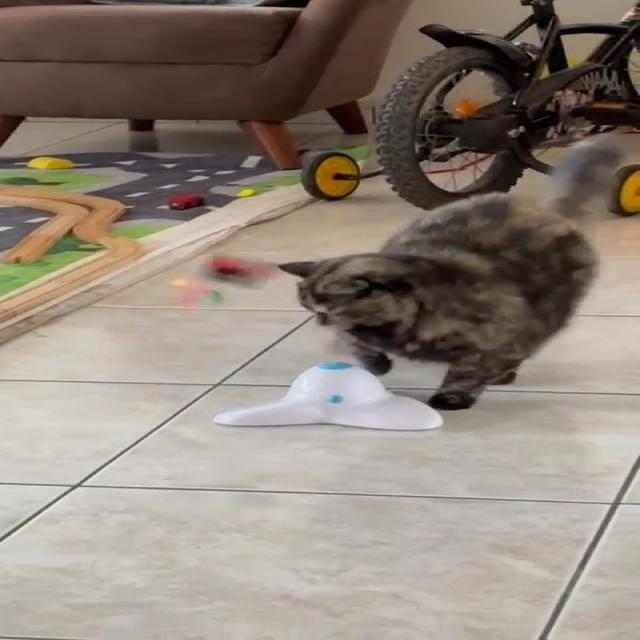authorized: (276, 137, 620, 410)
